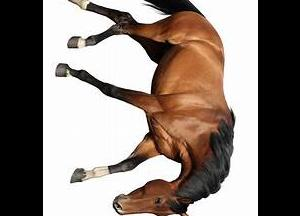horse: (54, 0, 236, 216)
